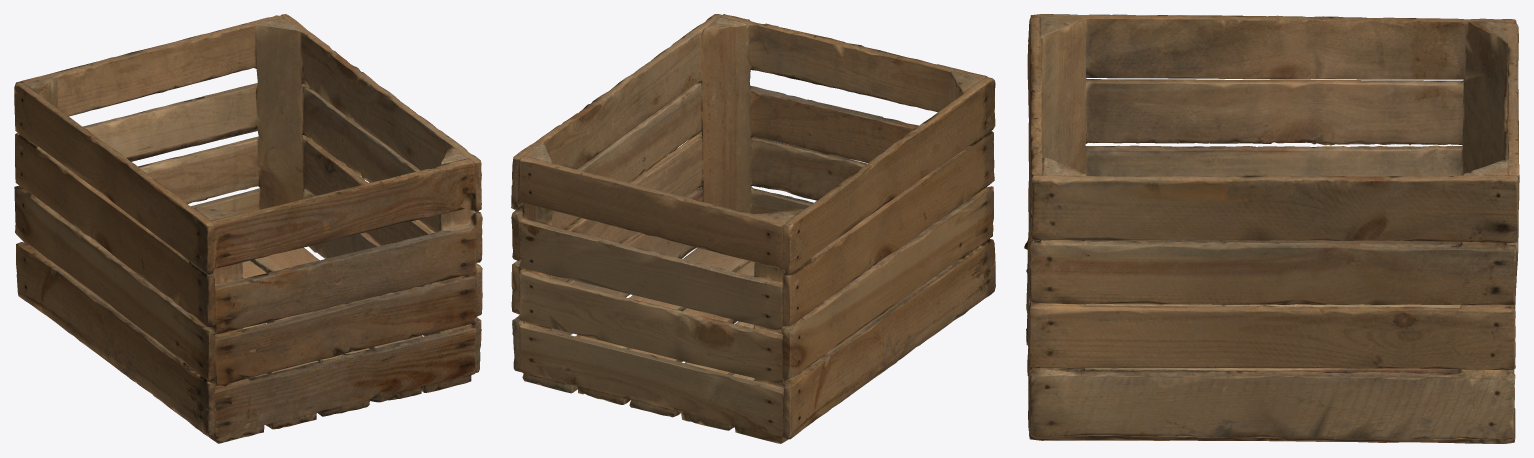
File: Wooden_Crate.glb
3 views of the same model, side by side, from view 1: azimuth 30°, elevation 25°; view 2: azimuth 150°, elevation 25°; view 3: azimuth 270°, elevation 25° (orthographic). The views are drawn at different scales.
Visible parts, largest first — view 1: Wooden_Crate_LOD1_vijncb3; view 2: Wooden_Crate_LOD1_vijncb3; view 3: Wooden_Crate_LOD1_vijncb3.
Boxes of the visible parts, x1,y1,x2,y2 form: Wooden_Crate_LOD1_vijncb3: [14, 14, 482, 443]; Wooden_Crate_LOD1_vijncb3: [511, 14, 995, 443]; Wooden_Crate_LOD1_vijncb3: [1024, 14, 1519, 443].
Size of the model in its own units: 41.49 by 31.59 by 51.75.
1 material, 1 textured.
